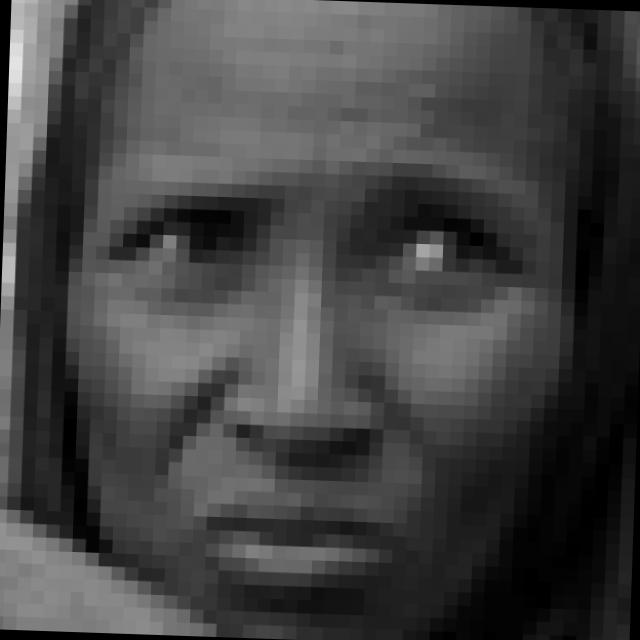fear: (76, 148, 530, 619)
